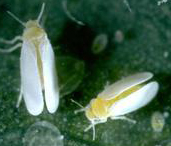whitefly: (1, 1, 61, 118), (70, 70, 159, 141)
